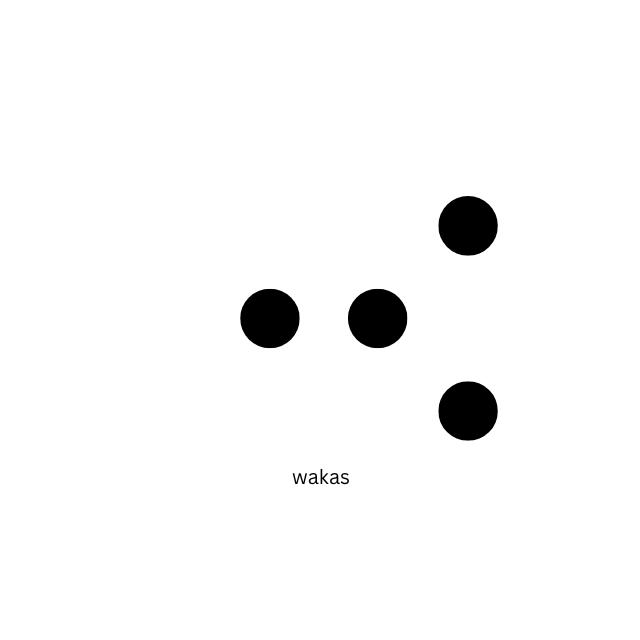dot_5: (149, 196, 300, 442)
two_cell_non_alphabet_ngunit: (348, 196, 499, 442)
